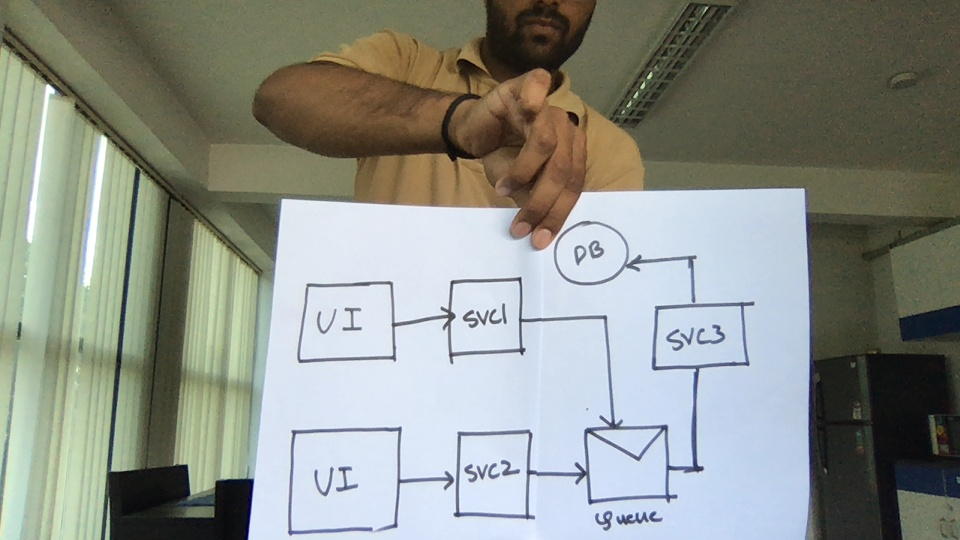db: (551, 217, 635, 295)
ec2: (638, 290, 761, 378), (447, 424, 537, 527), (443, 276, 531, 360)
queue: (577, 416, 687, 520)
sns: (579, 421, 683, 520)
ui: (286, 421, 406, 538), (292, 276, 404, 374)
